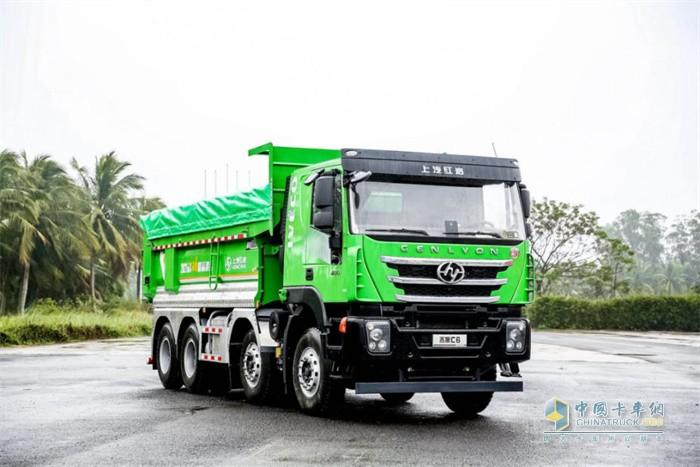truck: (124, 136, 538, 417)
